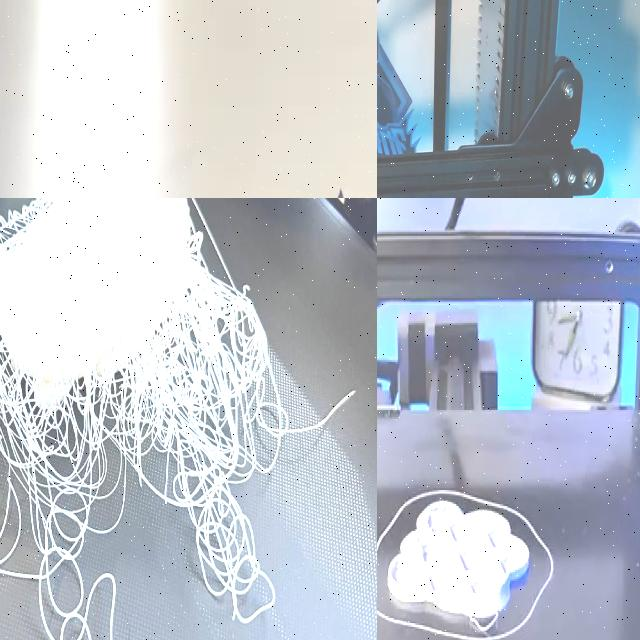spaghetti: (0, 198, 303, 628)
